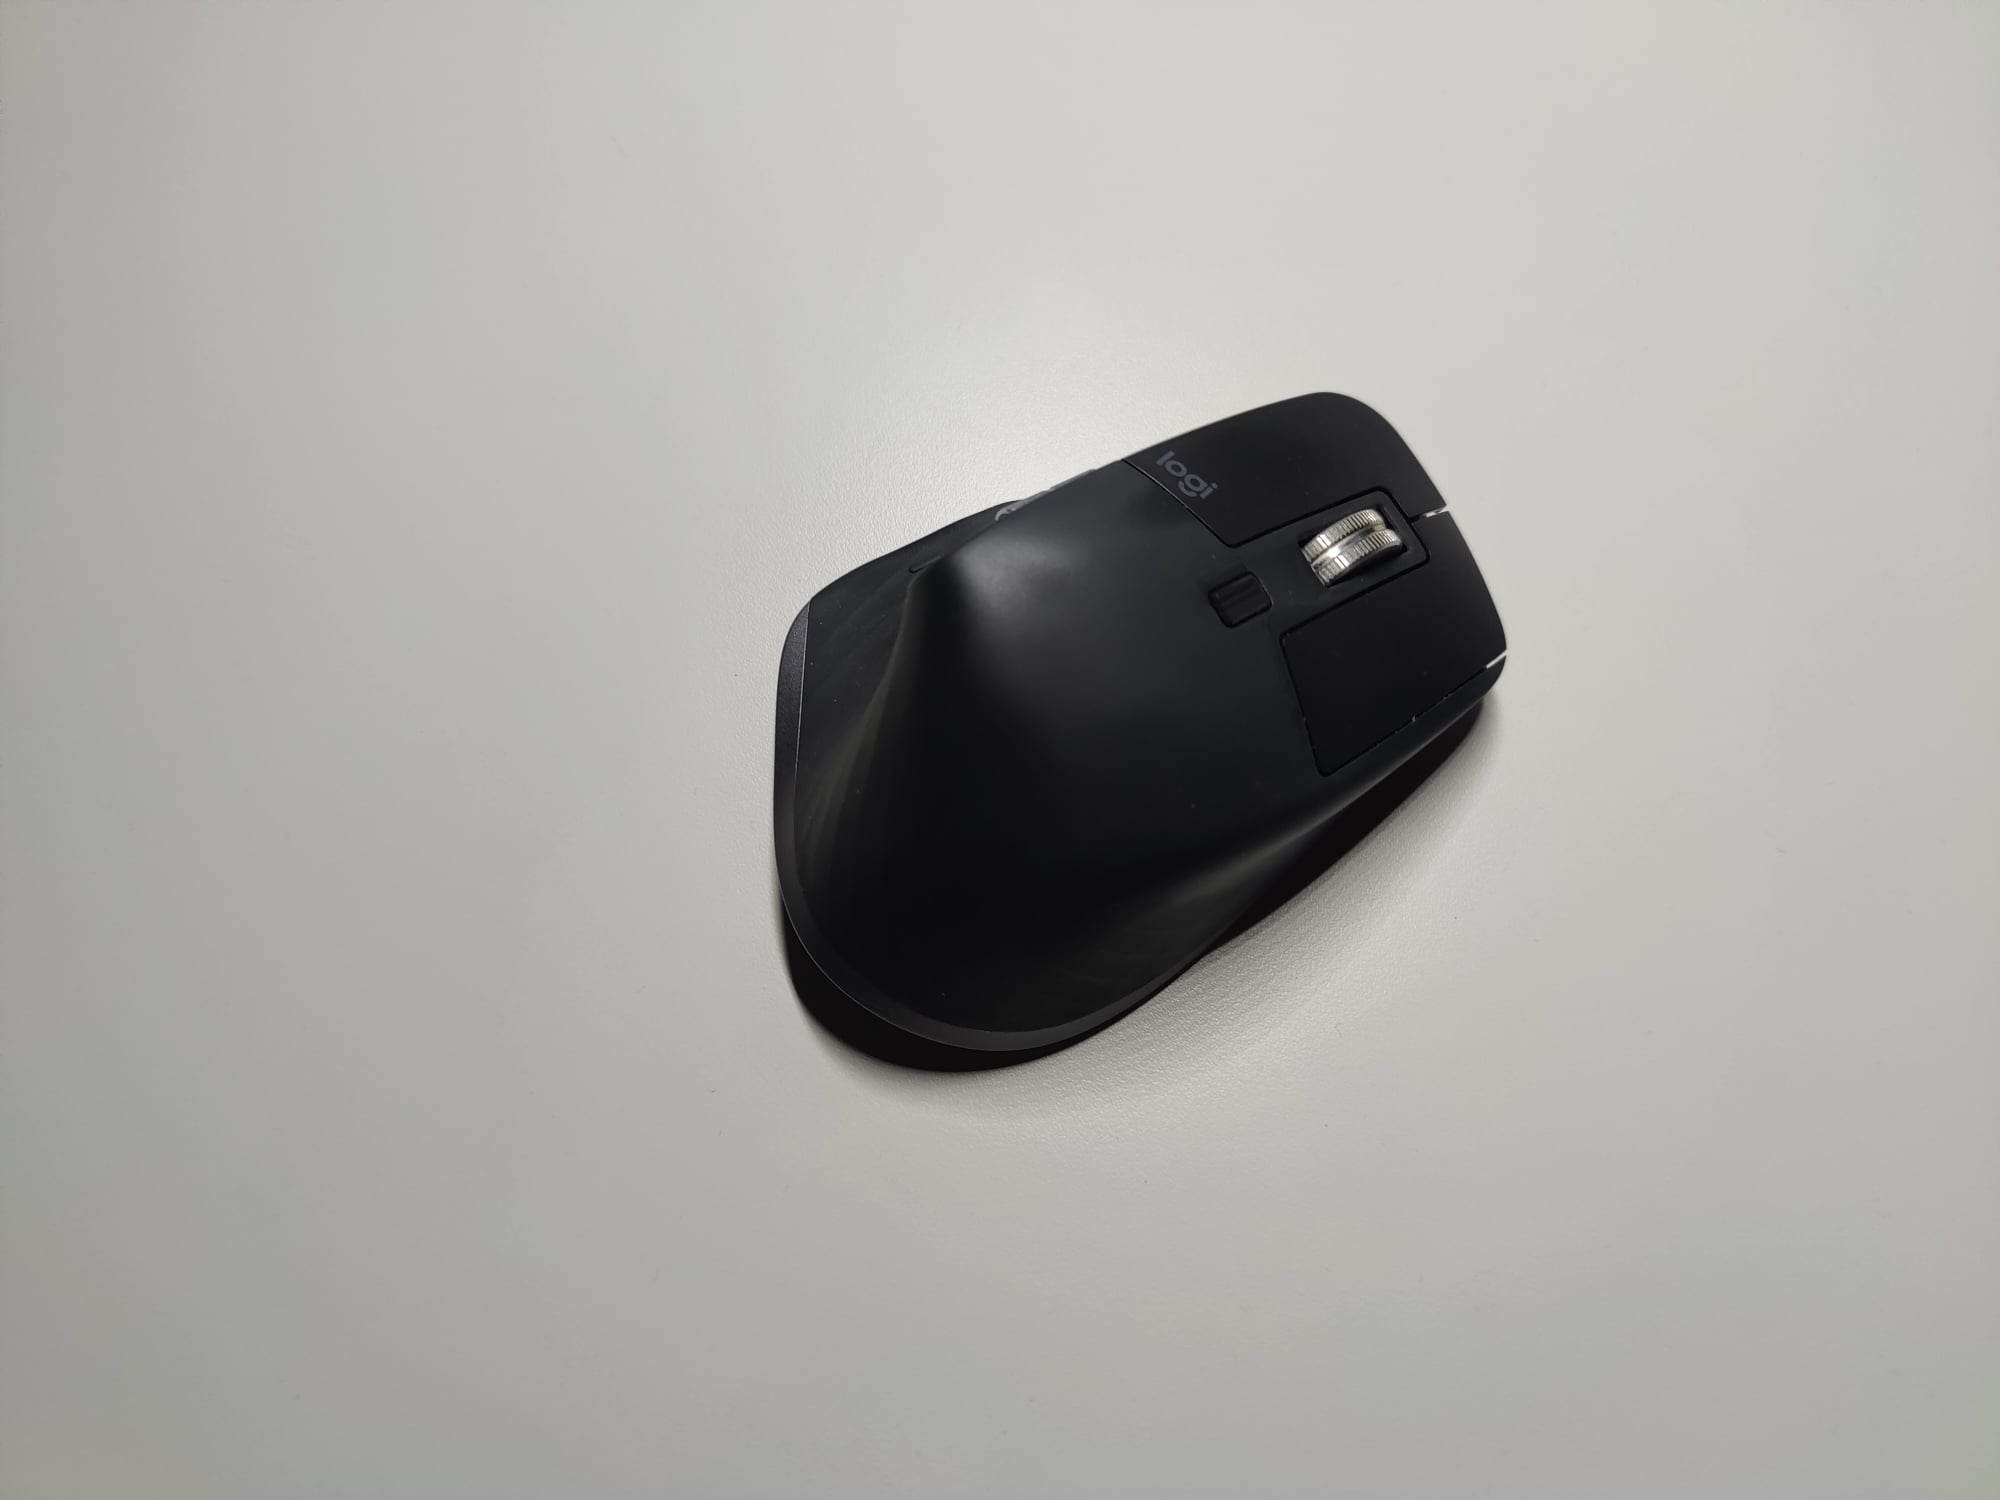Muis: (746, 375, 1535, 1086)
